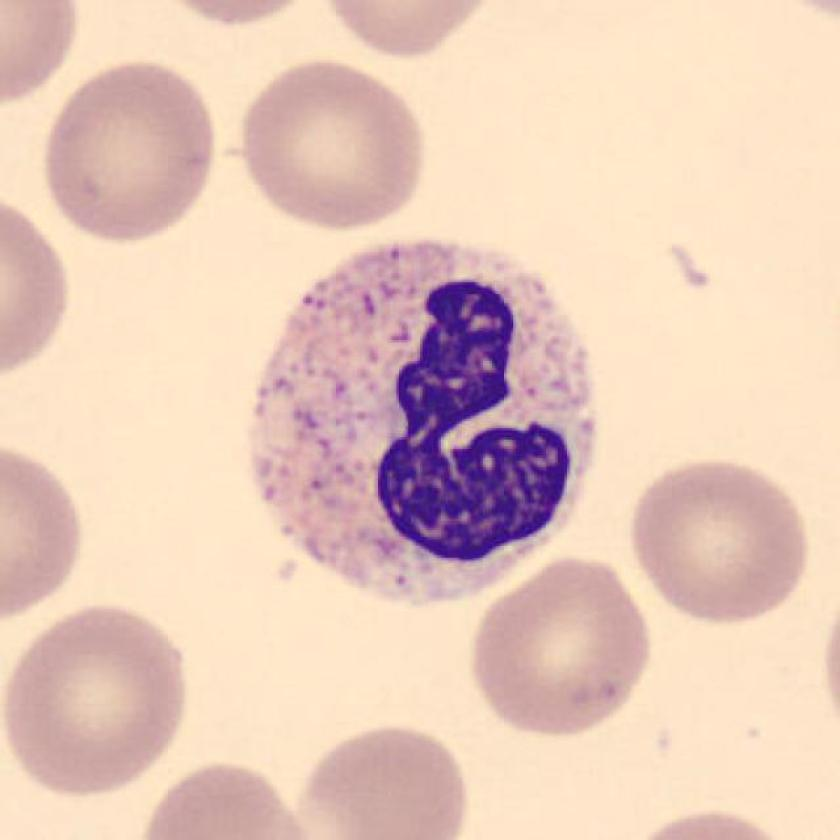neutrophil: (253, 239, 599, 608)
